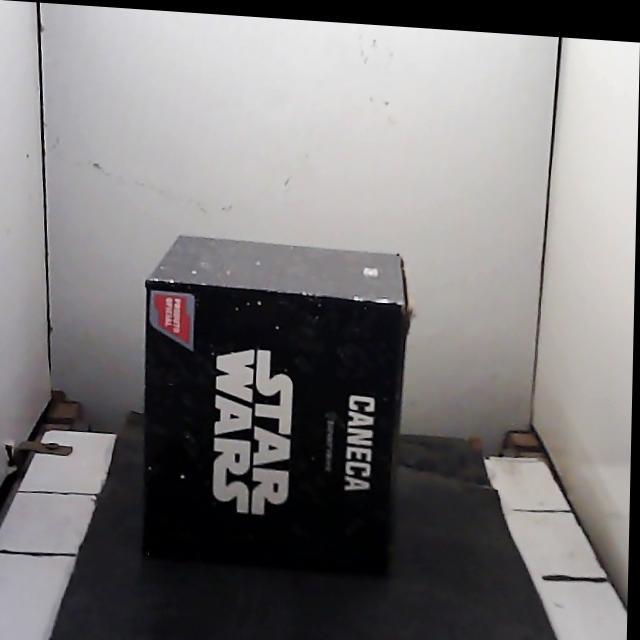papel: (141, 236, 407, 572)
